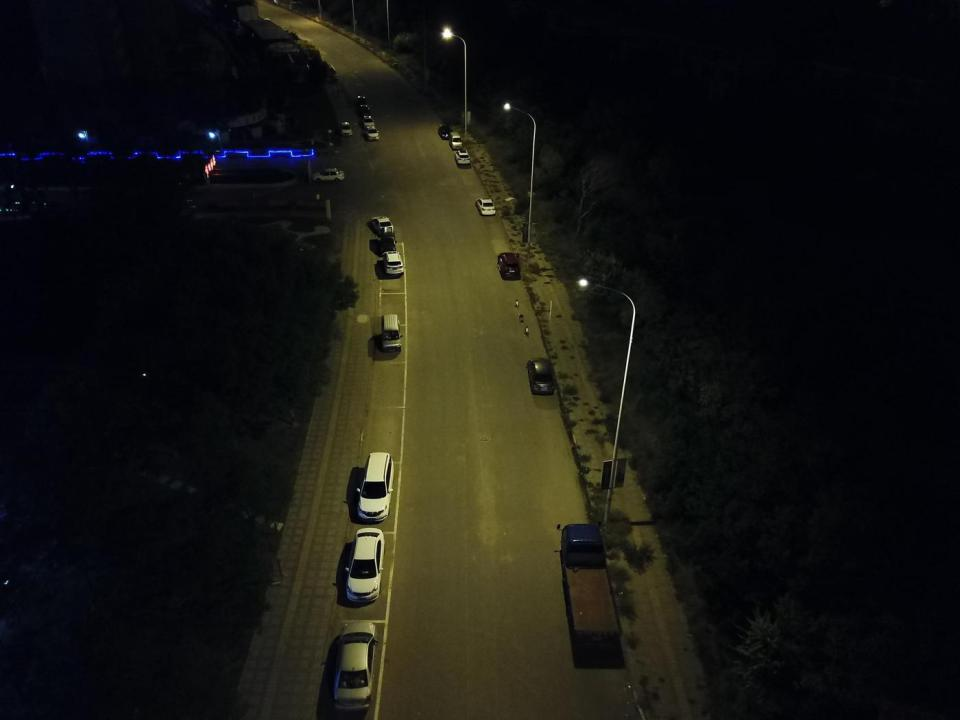car: (328, 614, 378, 710), (341, 526, 392, 604), (526, 353, 556, 395), (494, 246, 524, 282), (377, 248, 405, 278), (368, 212, 397, 234), (312, 167, 346, 184), (474, 193, 496, 219), (235, 192, 271, 207), (377, 232, 397, 252), (453, 149, 472, 166), (364, 124, 380, 143), (436, 122, 453, 138), (341, 120, 352, 138), (362, 115, 375, 128), (359, 103, 371, 116), (356, 95, 367, 106)
truck: (551, 517, 629, 656)
van: (352, 450, 397, 522), (378, 313, 402, 351), (446, 127, 464, 148)
